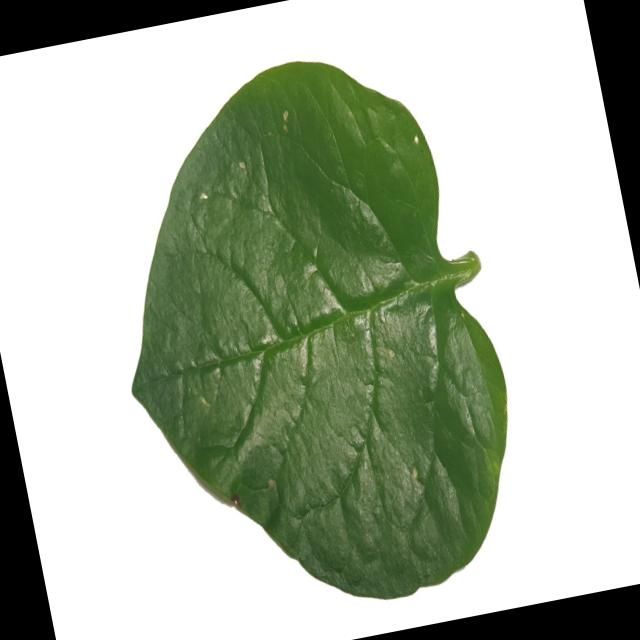Medicinal-Basale: (76, 30, 545, 640)
